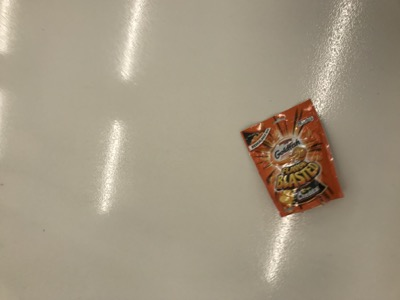goldfish: (242, 99, 344, 217)
